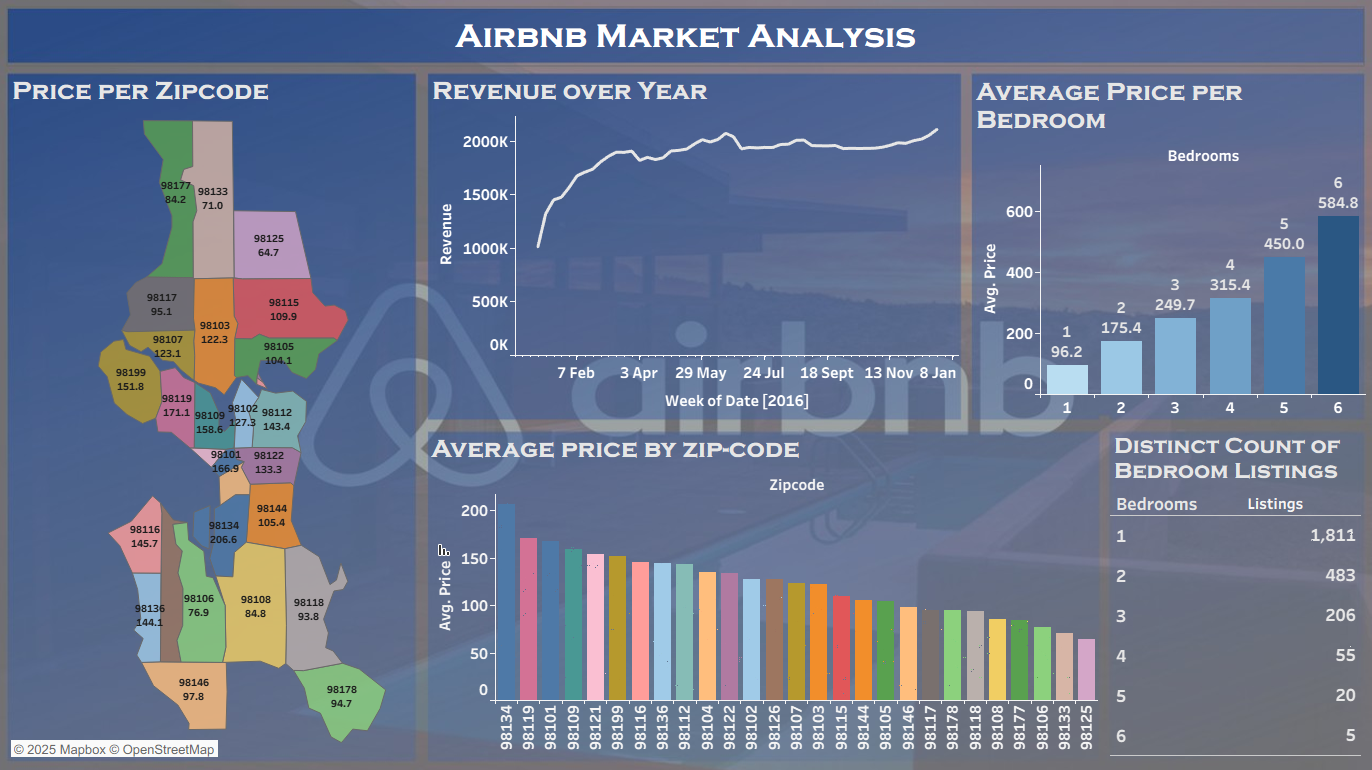

What the dashboard file says about the page in this screenshot:
{"tool":"tableau","page":{"name":"Dashboard 3","canvas":[1000,1000],"units":"permille","ordinal":1},"visuals":[{"type":"image","param":"C:/Users/zabiu/Downloads/Airbnb bg/Airbnb bg.jpg","box":[5.7,10,988.6,980]},{"type":"text","box":[15.7,28.8,967.9,71.2]},{"type":"worksheet","title":"Sheet 2","mark":"Multipolygon","box":[15.7,110,291.4,857.5]},{"type":"worksheet","title":"Sheet 3","mark":"Automatic","rows":["price (Calendar)"],"cols":["date"],"box":[315.7,110,379.3,431.2]},{"type":"worksheet","title":"Sheet 4","mark":"Automatic","rows":["price"],"cols":["bedrooms"],"box":[704.3,111.2,281.4,431.2]},{"type":"worksheet","title":"Sheet 5","mark":"Automatic","rows":["bedrooms"],"box":[802.9,556.2,180.7,410]},{"type":"worksheet","title":"Sheet 1","mark":"Automatic","rows":["price"],"cols":["zipcode"],"box":[315,557.5,479.3,411.2]},{"type":"text","box":[898.6,628.8,71.4,37.5]}]}

Visuals, with their boxes on the dashboard's canvas, which has no fixed pixel size, in thousandths of its width and height (x1, y1, x2, y2). These are canvas units, not pixel positions in the 1372x770 screenshot, which may show the page scaled, cropped or inside an application window:
image: [6,10,994,990]
text: [16,29,984,100]
"Sheet 2" worksheet (Multipolygon marks): [16,110,307,968]
"Sheet 3" worksheet: [316,110,695,541]
"Sheet 4" worksheet: [704,111,986,542]
"Sheet 5" worksheet: [803,556,984,966]
"Sheet 1" worksheet: [315,558,794,969]
text: [899,629,970,666]
